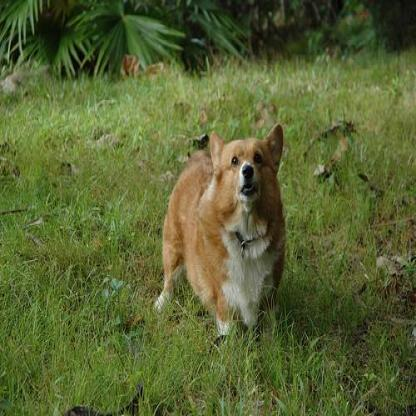Pembroke: (154, 118, 284, 335)
